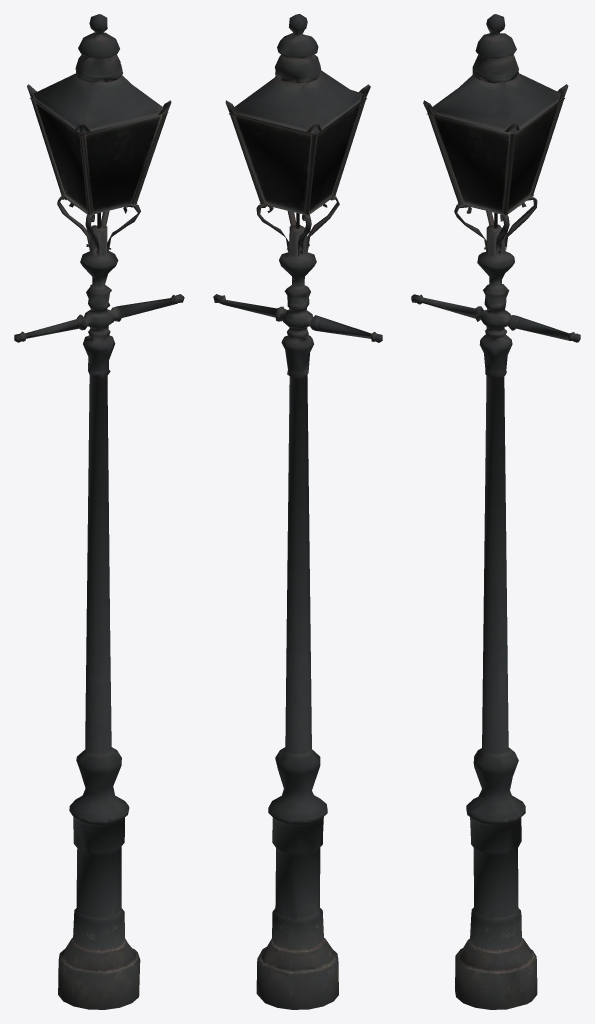
File: street_lamp_01.glb
3 renders of one model, left to right at view 1: azimuth 30°, elevation 25°; view 2: azimuth 150°, elevation 25°; view 3: azimuth 330°, elevation 25°, orthographic.
Parts seen in each view (by area): view 1: street_lamp_01; view 2: street_lamp_01; view 3: street_lamp_01.
Boxes of the visible parts, left/top/right/bottom form: street_lamp_01: left=14, top=14, right=184, bottom=1009; street_lamp_01: left=213, top=14, right=382, bottom=1009; street_lamp_01: left=411, top=14, right=580, bottom=1009.
Size of the model in its own units: 0.7026 by 3.87 by 0.3841.
2 materials, 2 textured.
